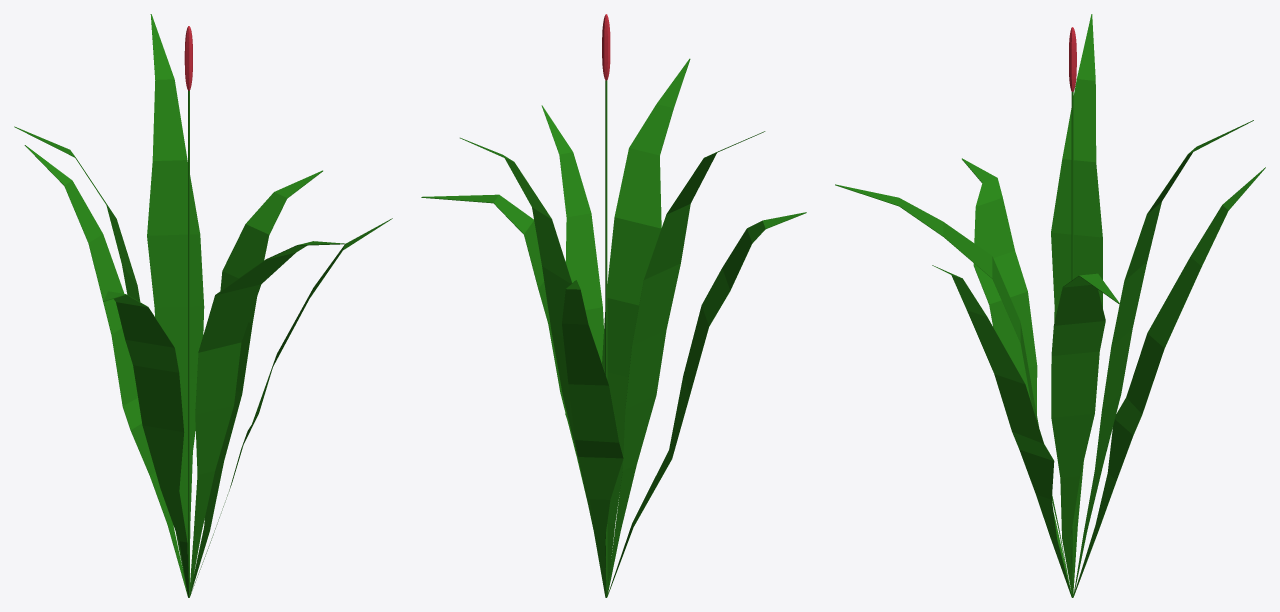
File: Totora.fbx
3 views of the same model, side by side, from view 1: azimuth 30°, elevation 25°; view 2: azimuth 150°, elevation 25°; view 3: azimuth 270°, elevation 25° (orthographic). The views are drawn at different scales.
Parts seen in each view (by area): view 1: Cilindro; view 2: Cilindro; view 3: Cilindro.
Boxes of the visible parts, x1,y1,x2,y2 form: Cilindro: (14, 14, 392, 597); Cilindro: (421, 14, 806, 597); Cilindro: (835, 14, 1265, 597).
Size of the model in its own units: 2559 by 2210 by 3744.
